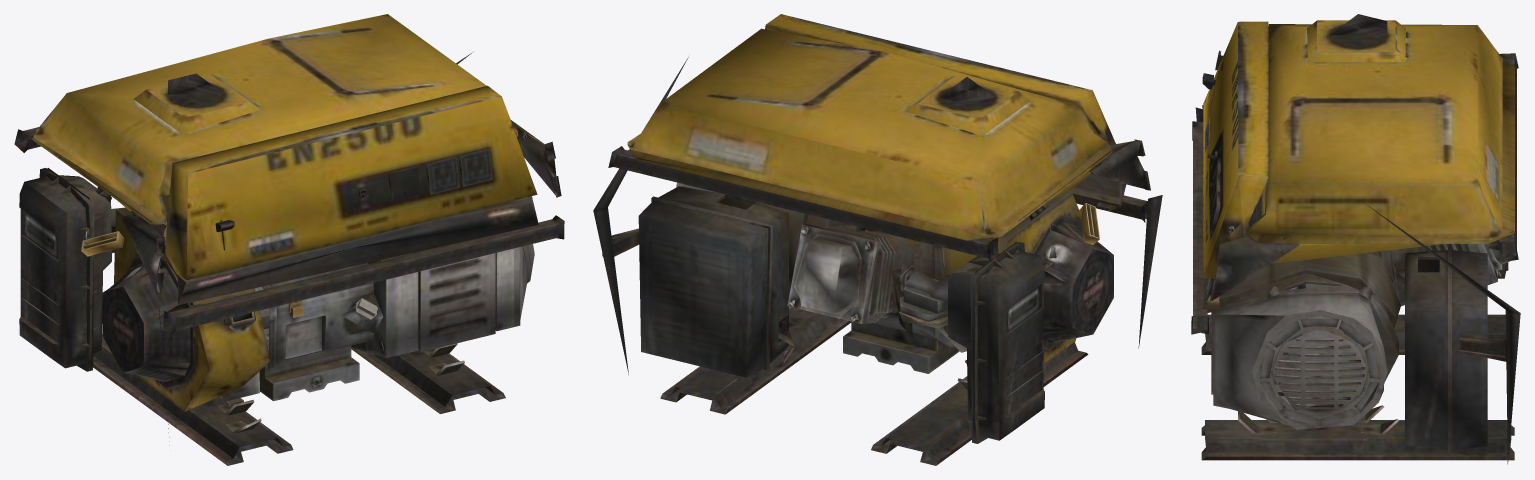
The model's file is portable_generator.glb.
3 renders of one model, left to right at view 1: azimuth 30°, elevation 25°; view 2: azimuth 150°, elevation 25°; view 3: azimuth 270°, elevation 25°, orthographic. The views are drawn at different scales.
Visible parts, largest first — view 1: portable_generator; view 2: portable_generator; view 3: portable_generator.
Part boxes in pixels (x1=…): portable_generator: x1=14, y1=14, x2=564, y2=465; portable_generator: x1=593, y1=14, x2=1162, y2=465; portable_generator: x1=1191, y1=14, x2=1520, y2=464.
Bounding box in the file's own units: 0.8146 × 0.5747 × 0.5414.
Materials: 2 (2 with a texture image).
